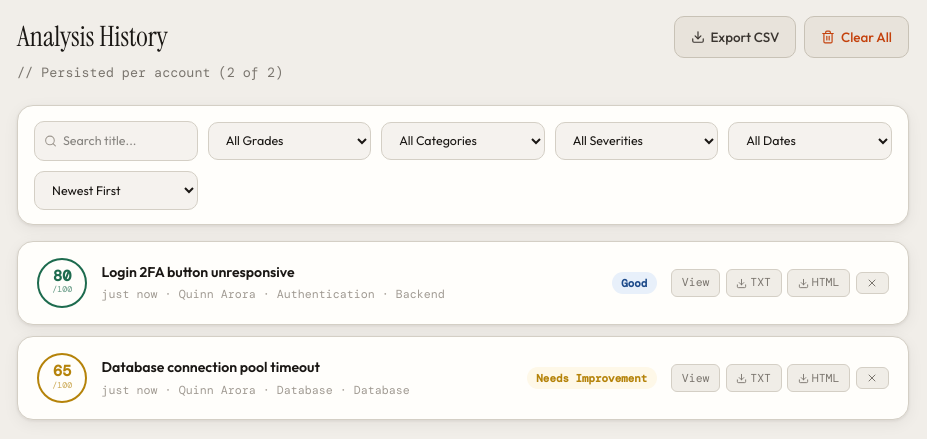
Test: HistoryPage › filters history items by search query
Expected: the text "Login 2FA button unresponsive" is shown, x1=102 y1=262 x2=295 y2=283
Expected: the text "Database connection pool timeout" is shown, x1=102 y1=357 x2=320 y2=378
Type "Database" into the field with test id "input-history-search" at coordinates (116, 141), box x1=34 y1=121 x2=198 y2=161
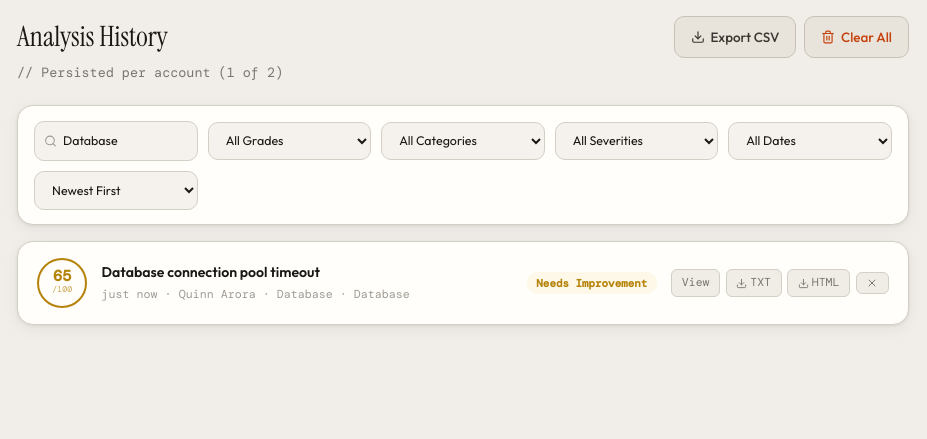
Expected: the text "Database connection pool timeout" is shown, x1=102 y1=262 x2=320 y2=283
Expected: the text "Login 2FA button unresponsive" is gone
